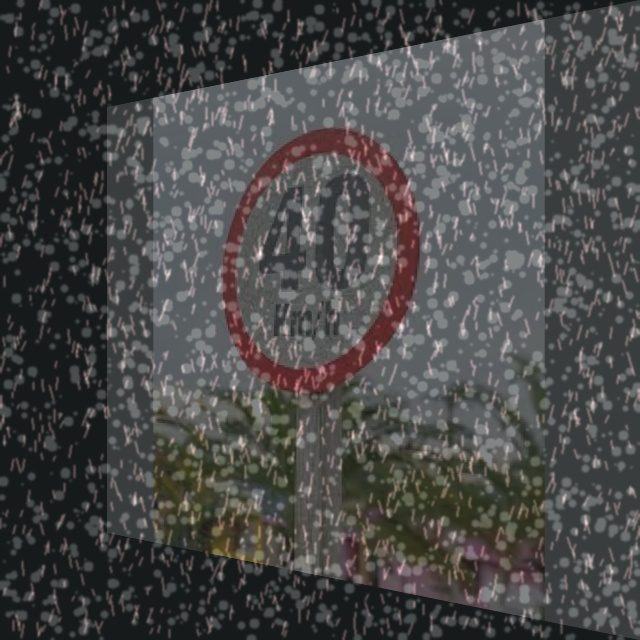Speed_Limit_40: (225, 113, 420, 388)
